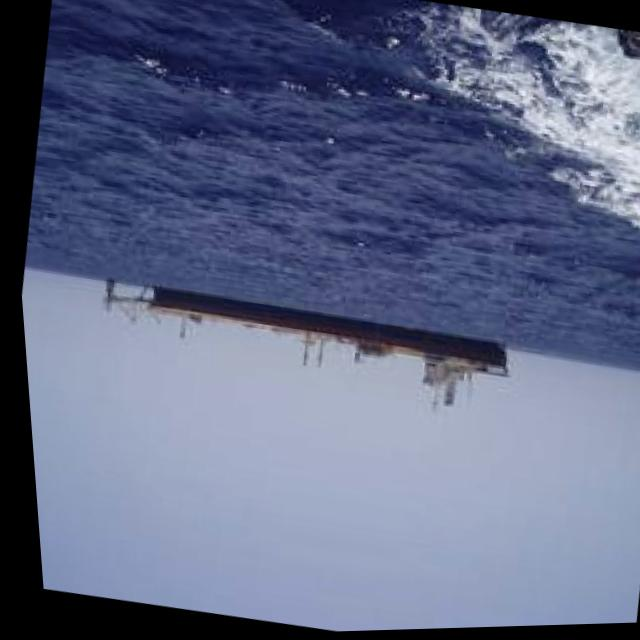ship2: (144, 286, 502, 409)
